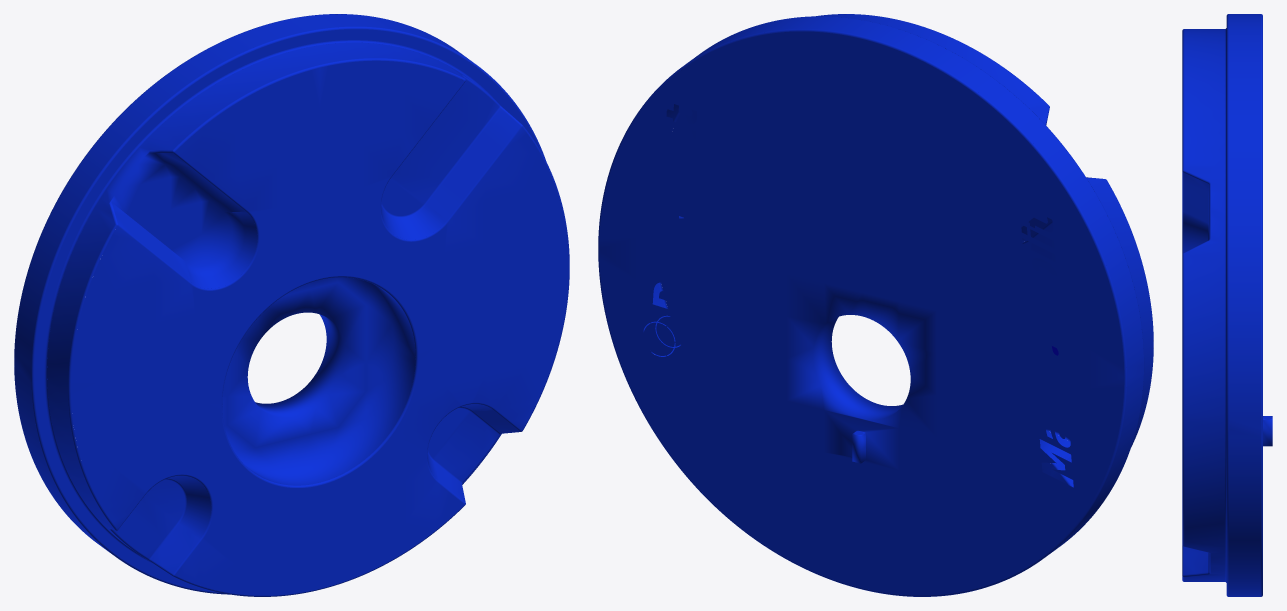
3 views of the same model, side by side, from view 1: azimuth 30°, elevation 25°; view 2: azimuth 150°, elevation 25°; view 3: azimuth 270°, elevation 25° (orthographic). The views are drawn at different scales.
Bounding box in the file's own units: 60.5 × 60.5 × 9.36.
